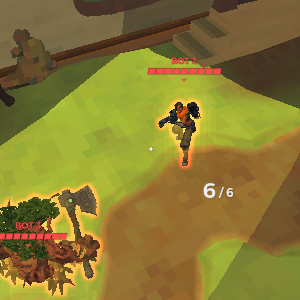model: (1, 184, 101, 297), (154, 98, 201, 169)
